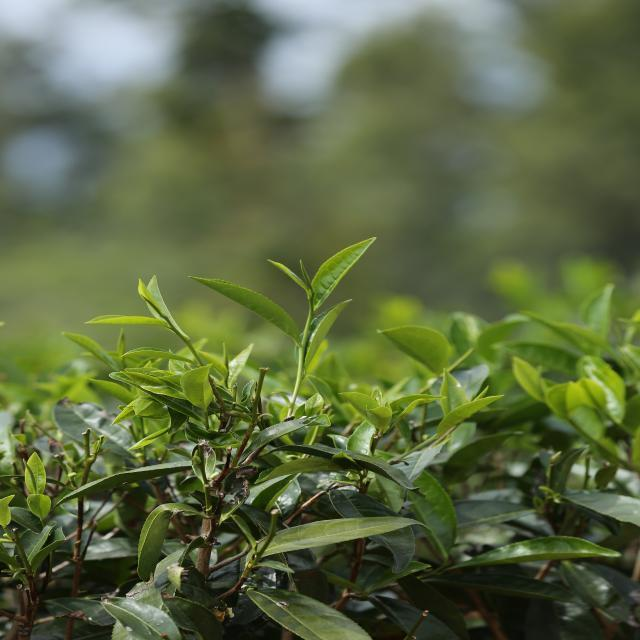Stem: (307, 312, 314, 322), (177, 331, 182, 337)
